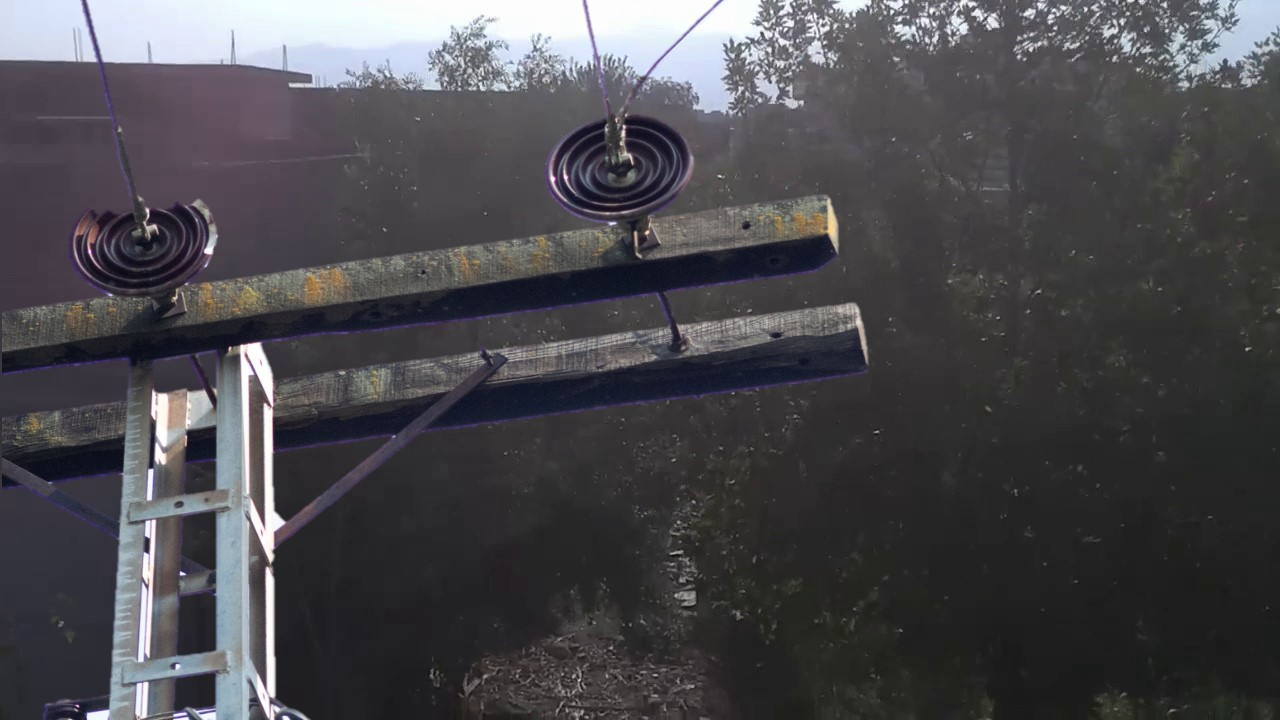defect_disc: (69, 191, 227, 303)
insulator_disc: (544, 108, 698, 220)
